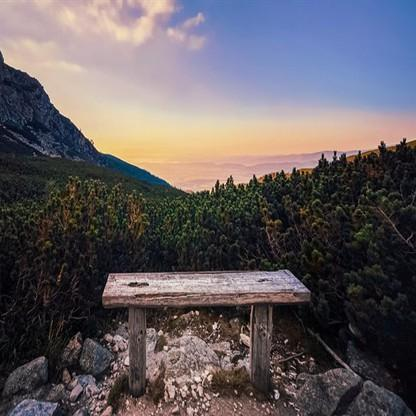obstacle: (100, 256, 307, 396)
